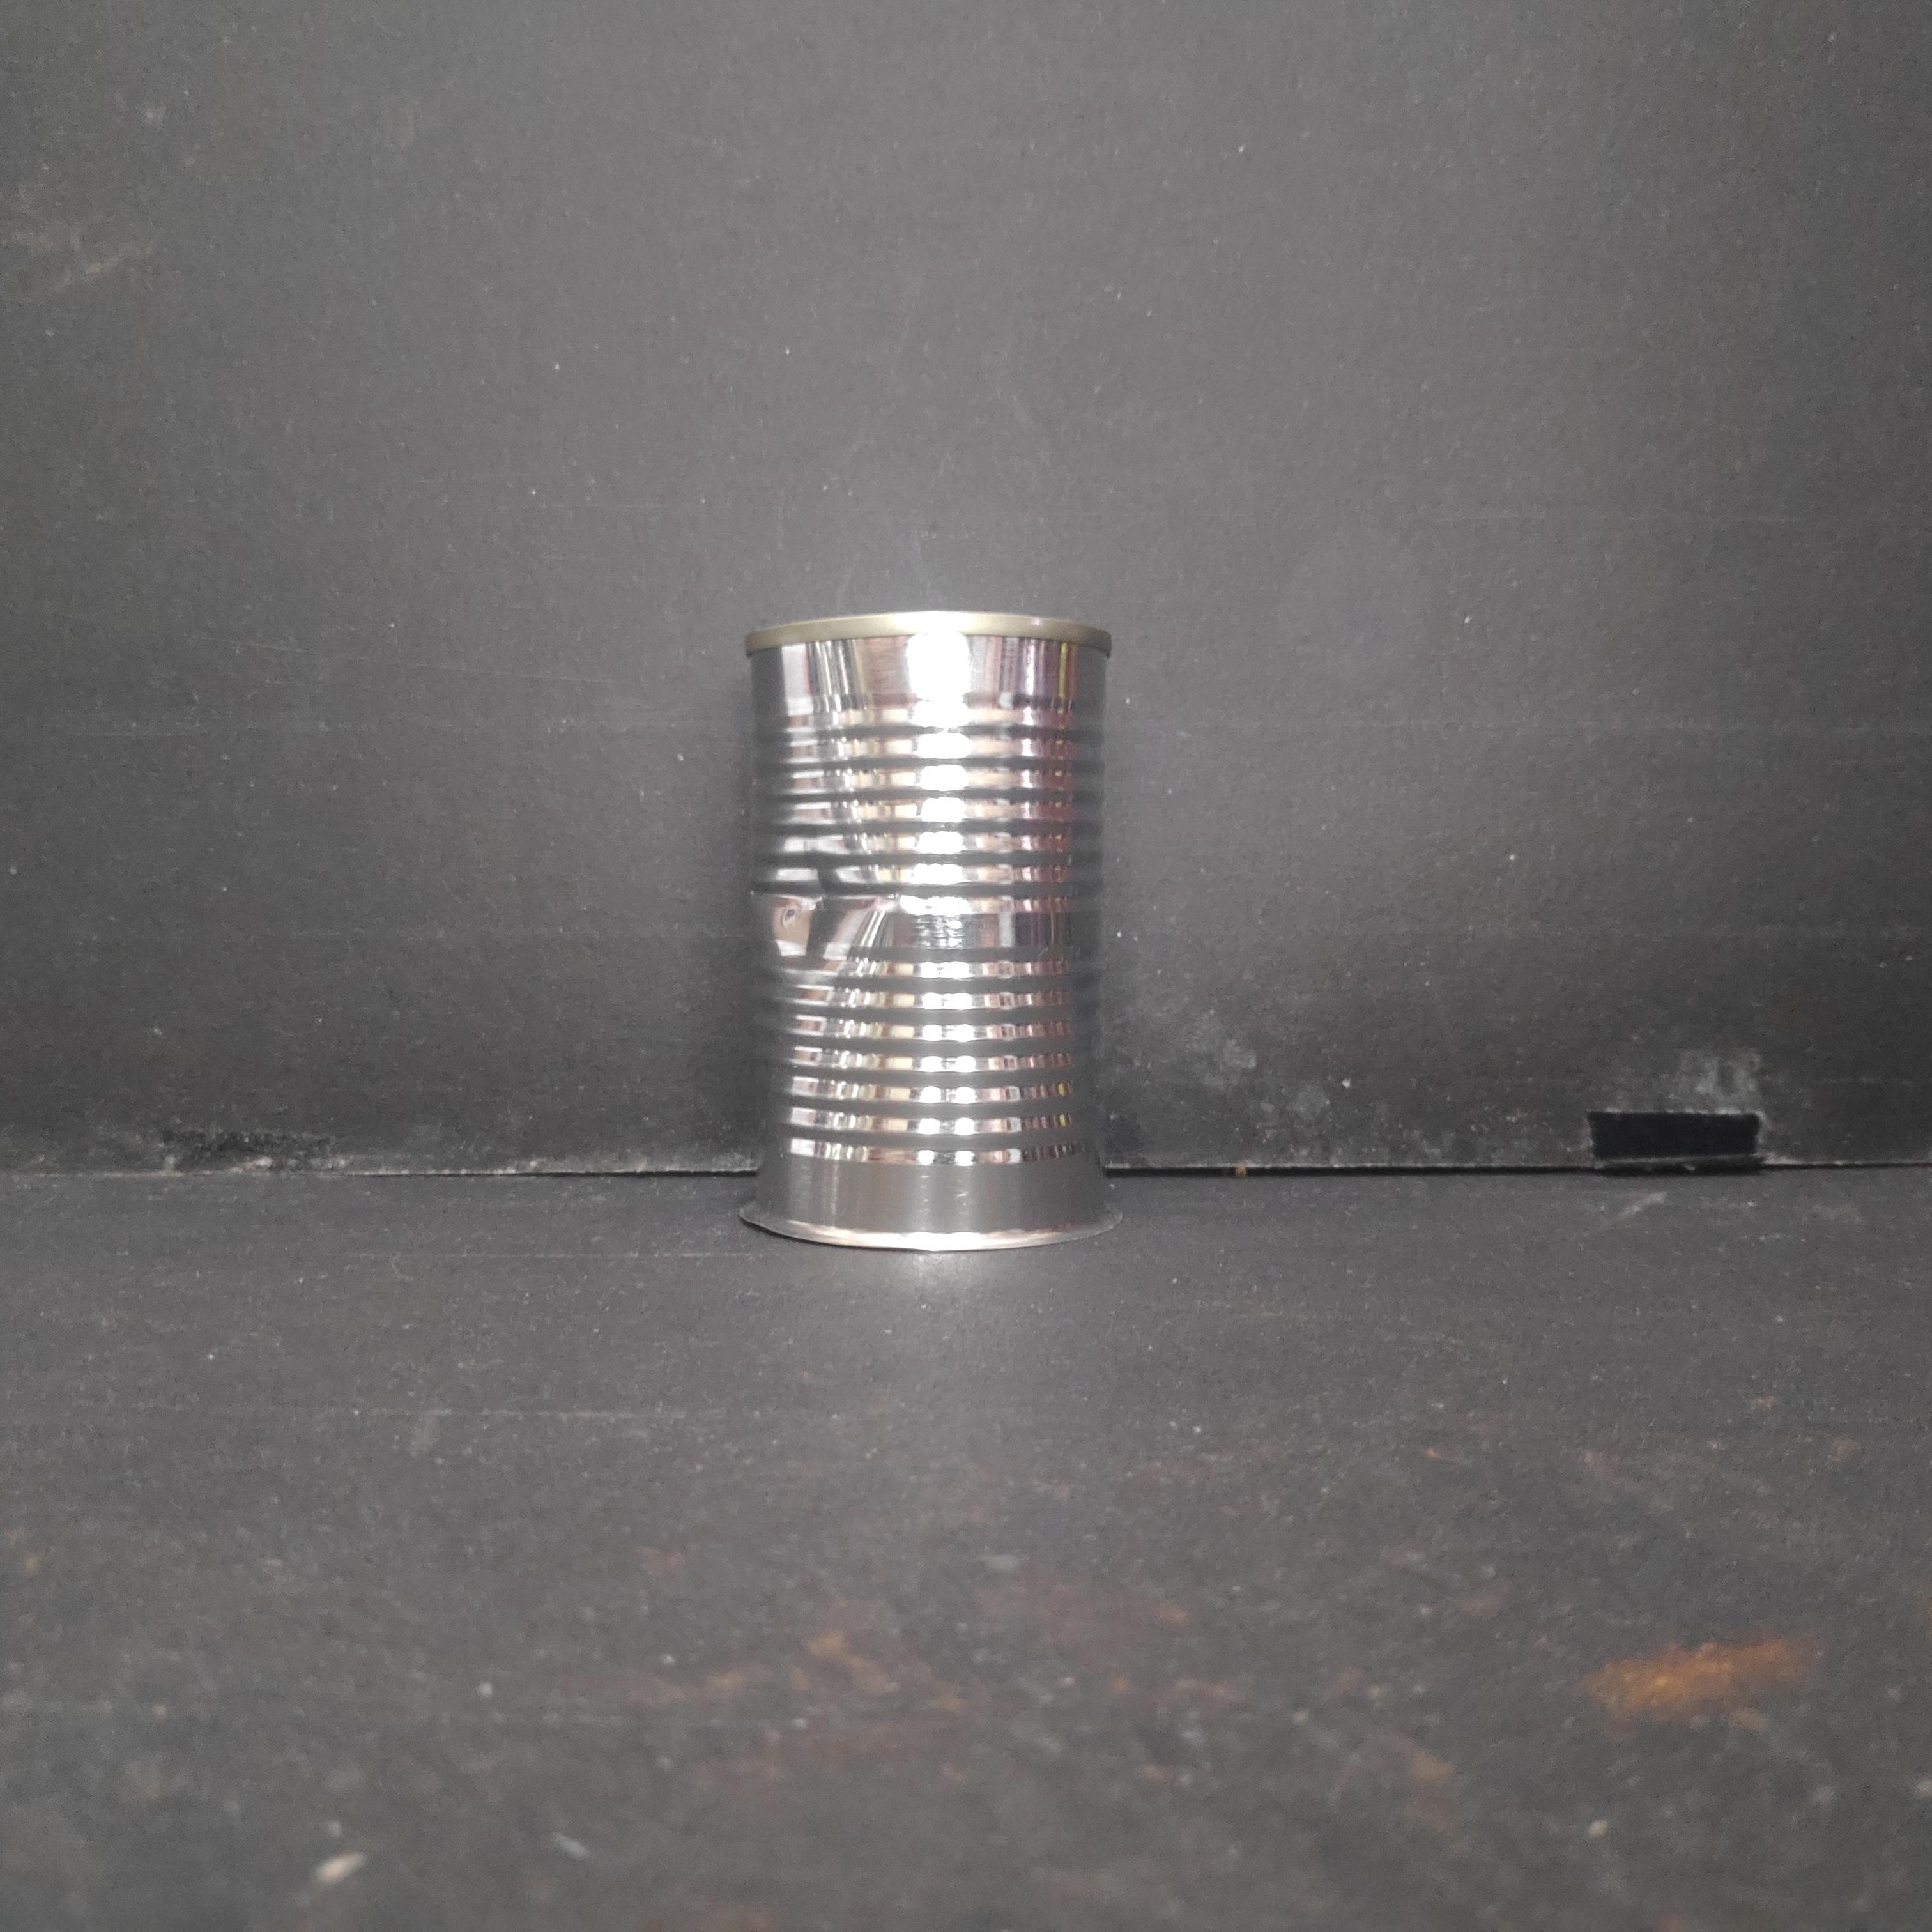Minor Defect: (730, 598, 1129, 1266)
